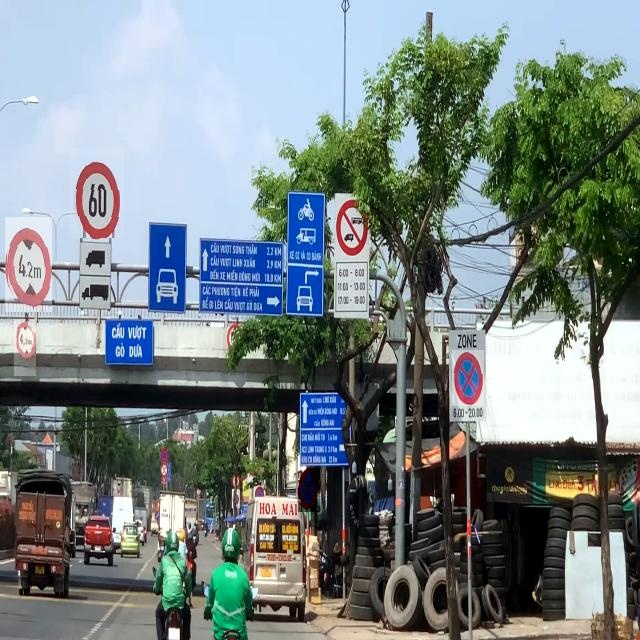bien_chi_dan: (69, 148, 124, 238), (5, 217, 52, 312), (452, 351, 484, 406), (14, 319, 36, 376), (298, 468, 320, 512)
